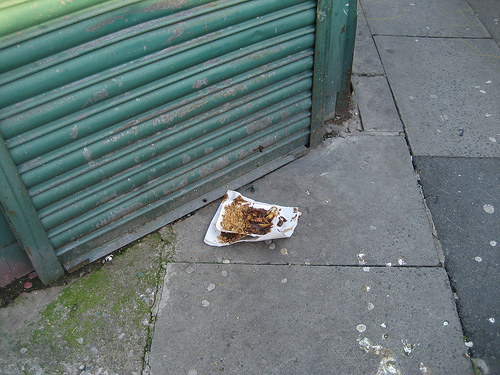litter: (204, 189, 301, 246)
